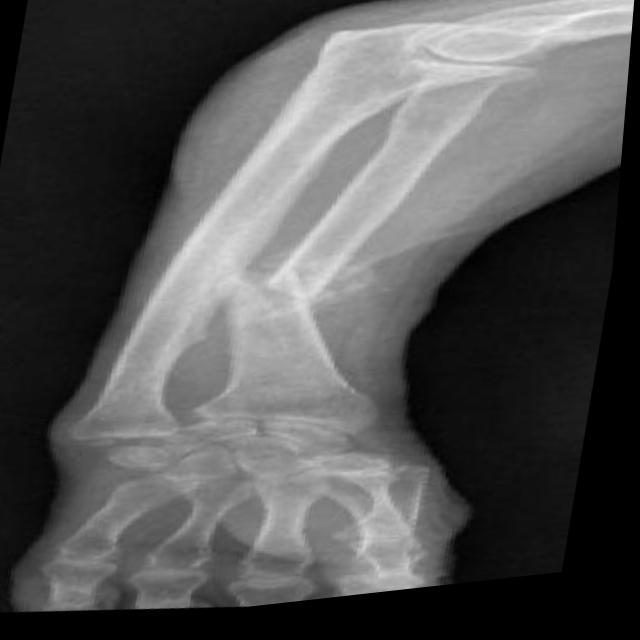fracture: (221, 260, 358, 329)
